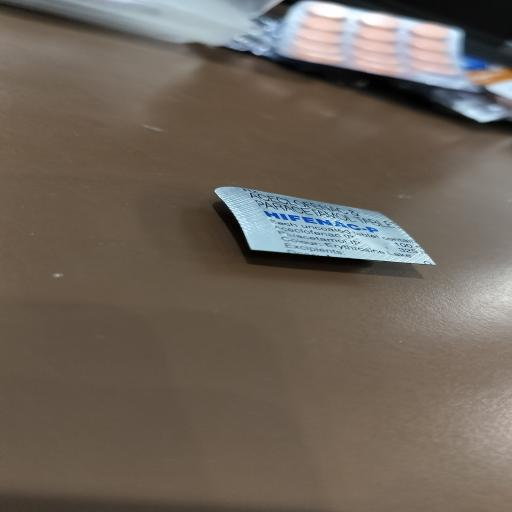hifenac-p: (258, 206, 398, 237)
medicine: (214, 186, 448, 266)
